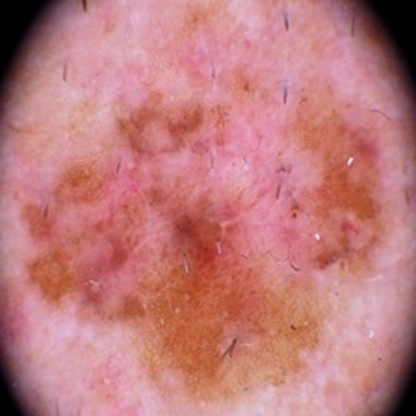malignant: (43, 115, 380, 318)
